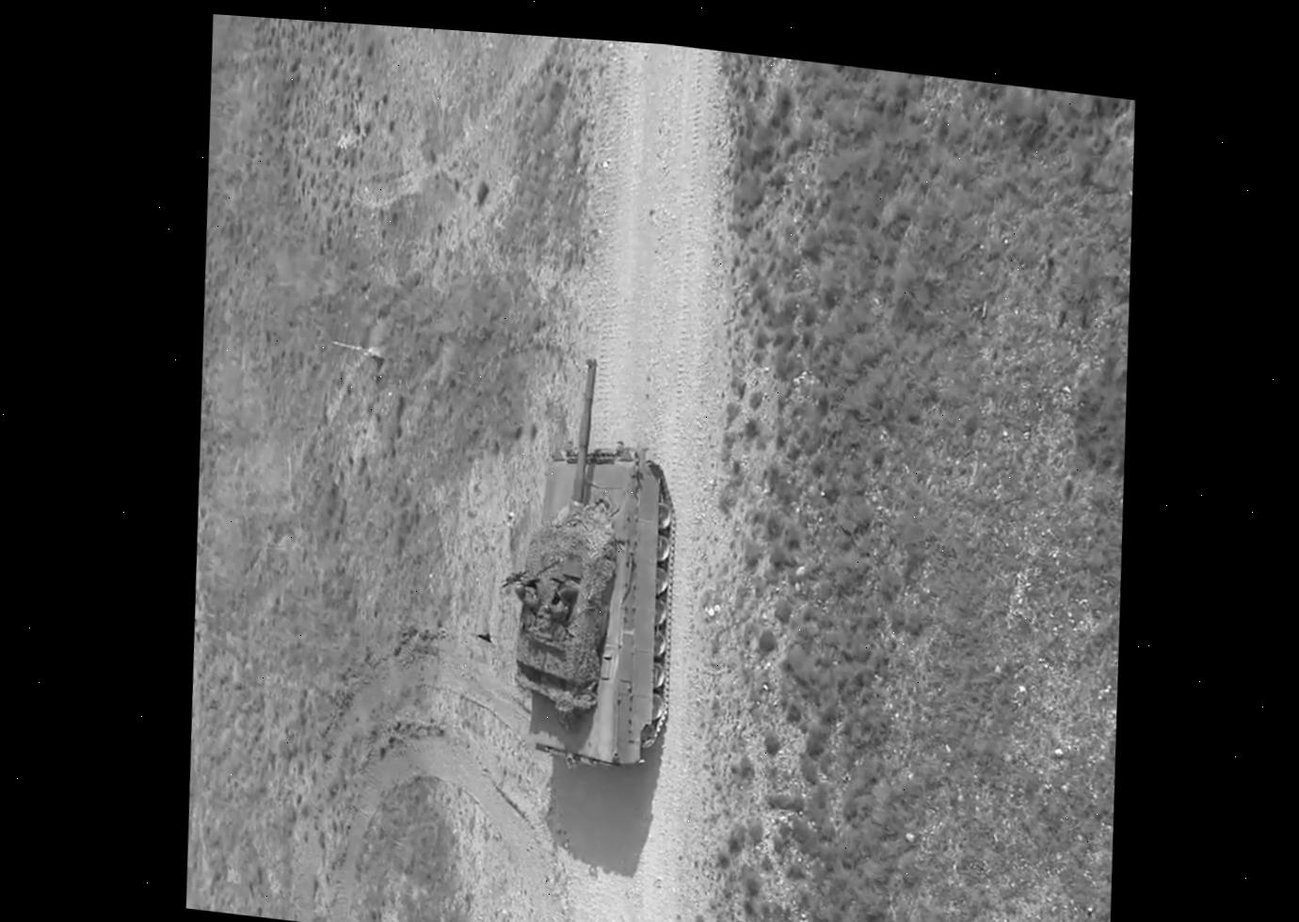tank: (488, 347, 690, 781)
